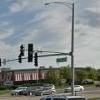Traffic light: (11, 37, 50, 71)
